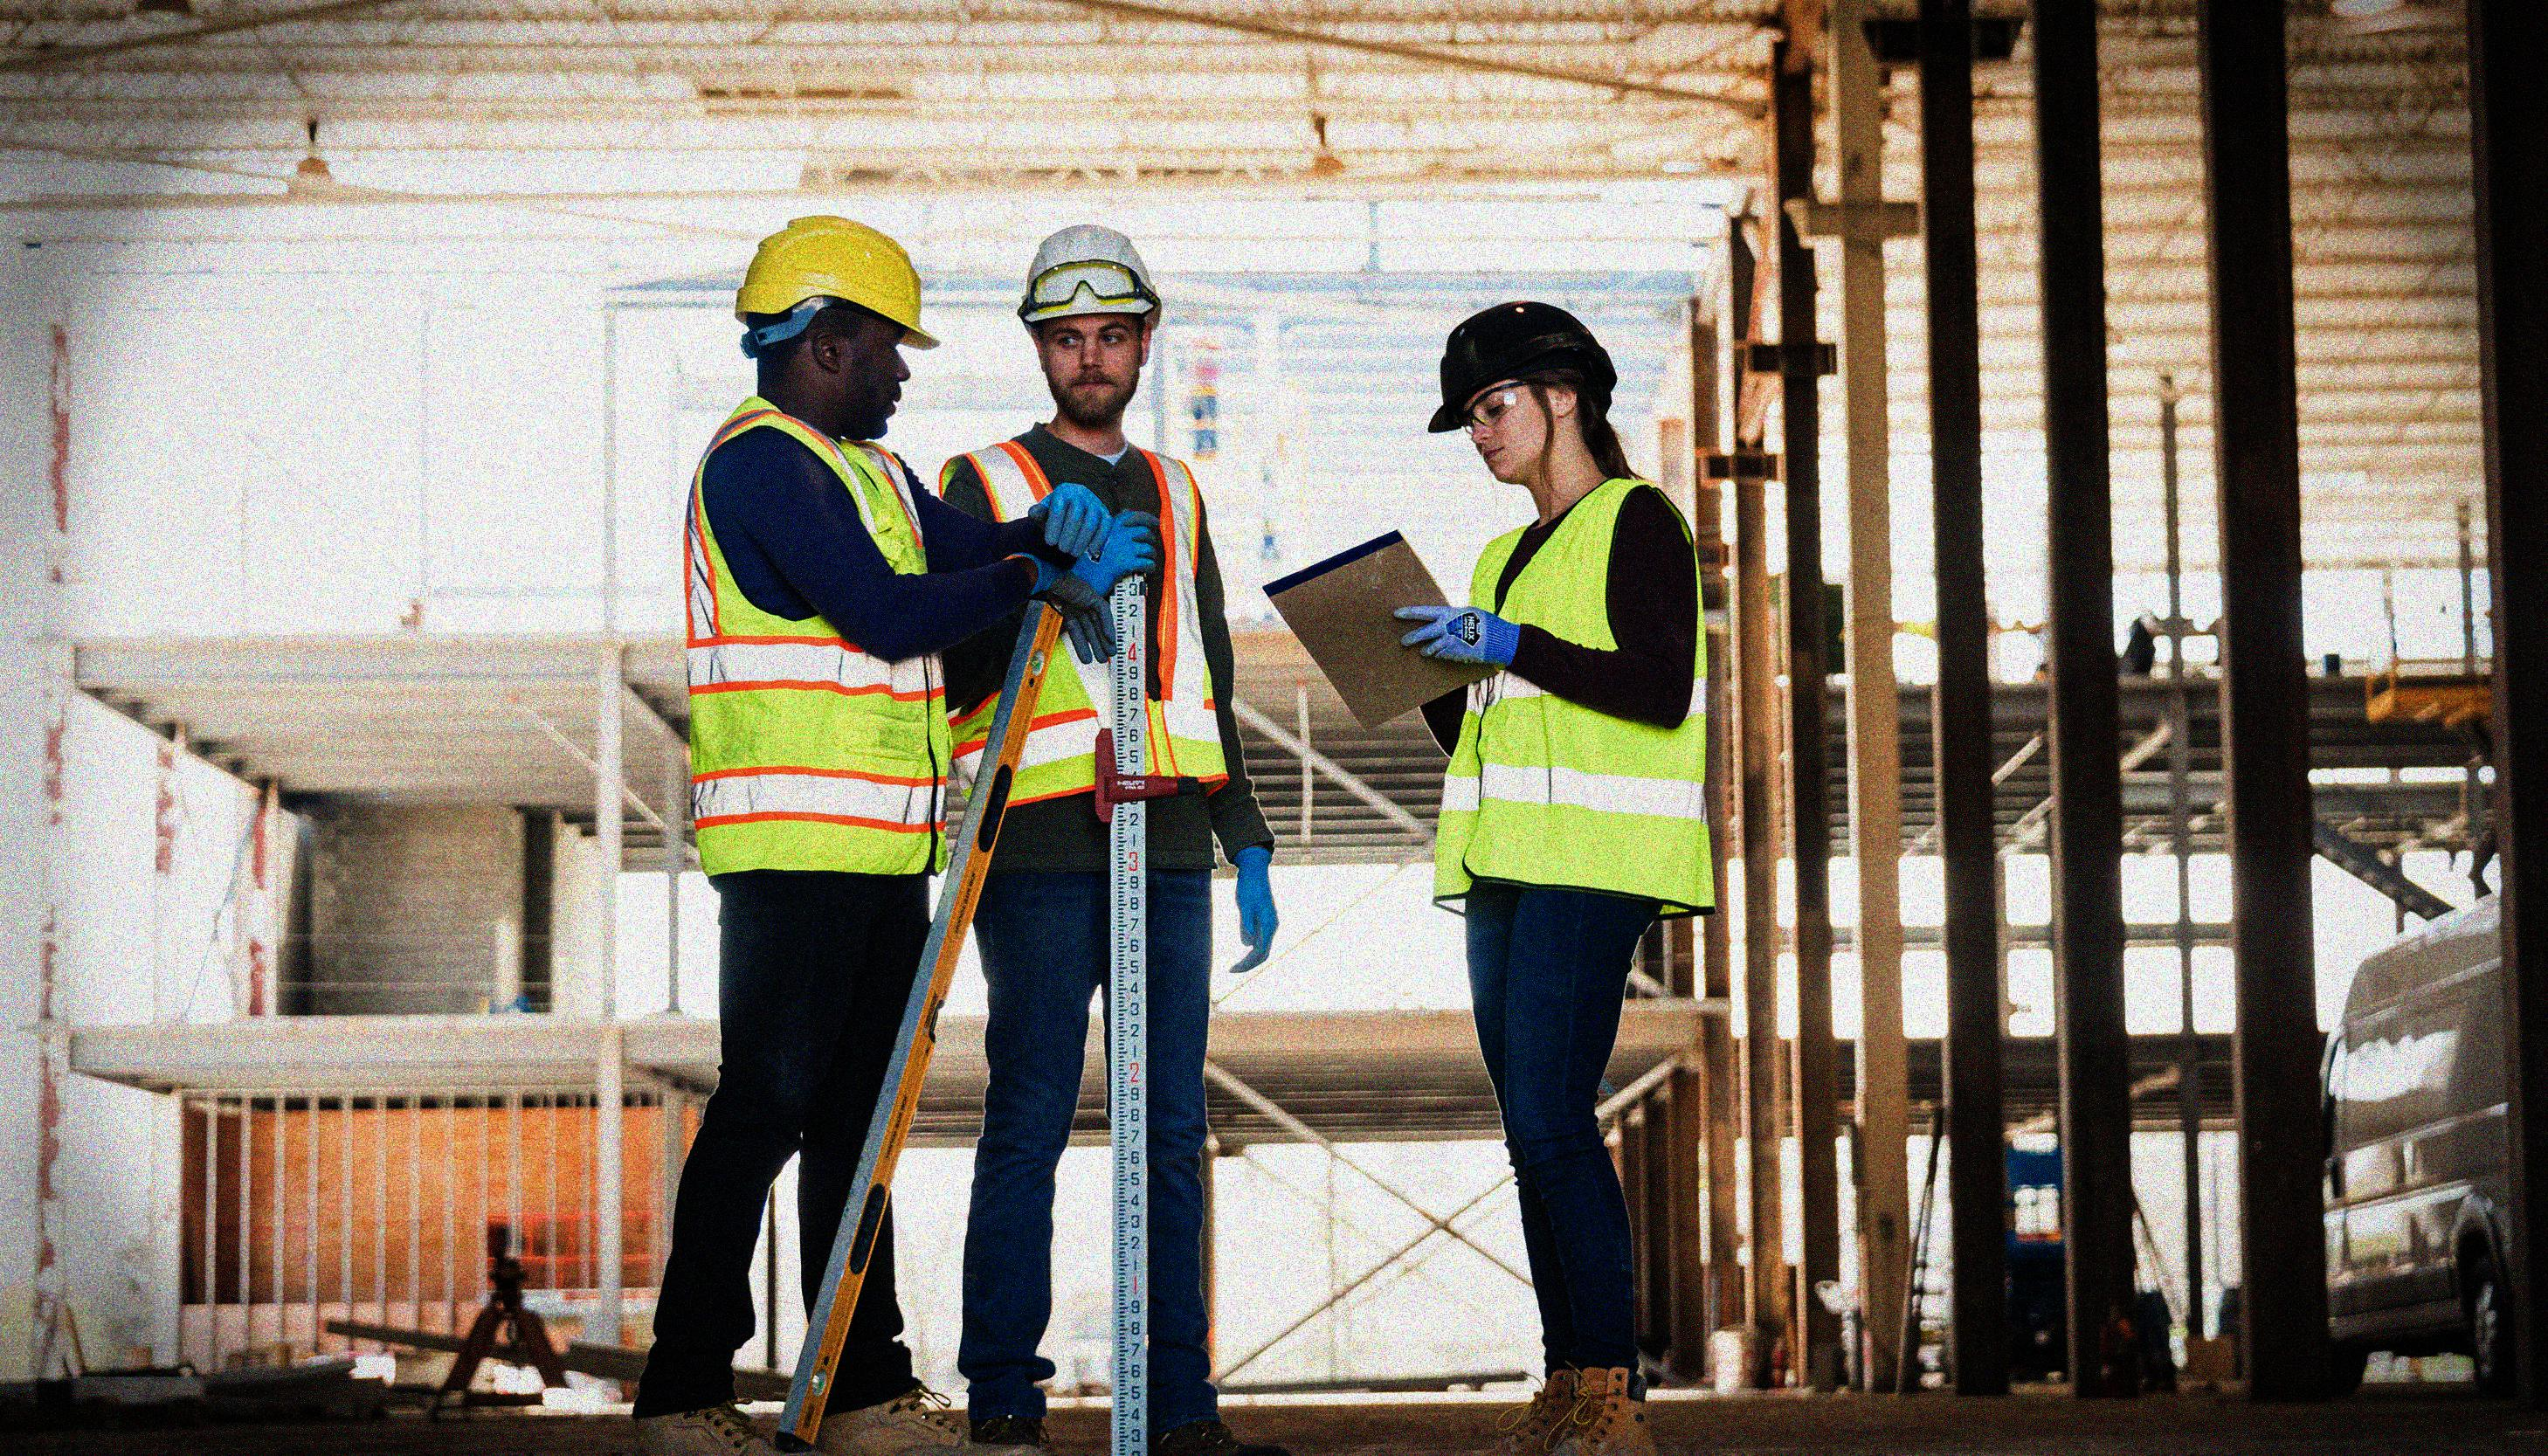helmet: (739, 212, 938, 436), (1426, 299, 1622, 481), (1013, 224, 1164, 425)
